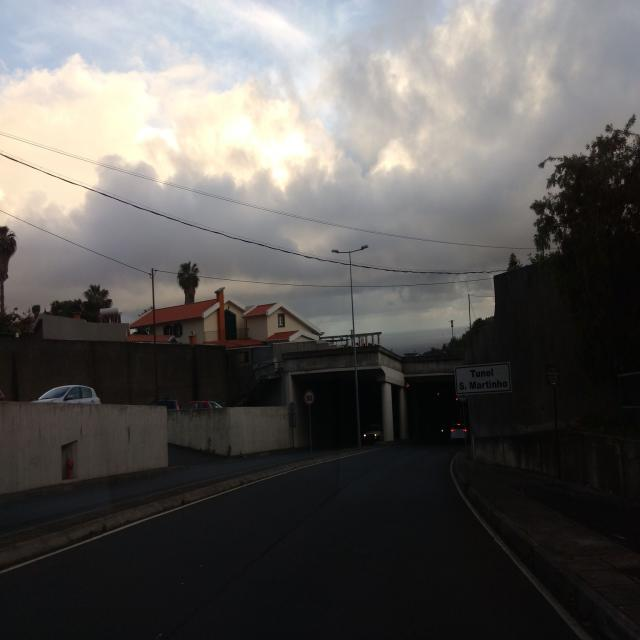car: (31, 384, 102, 403), (146, 397, 182, 413), (362, 424, 384, 444), (186, 400, 224, 411), (449, 422, 468, 443)
